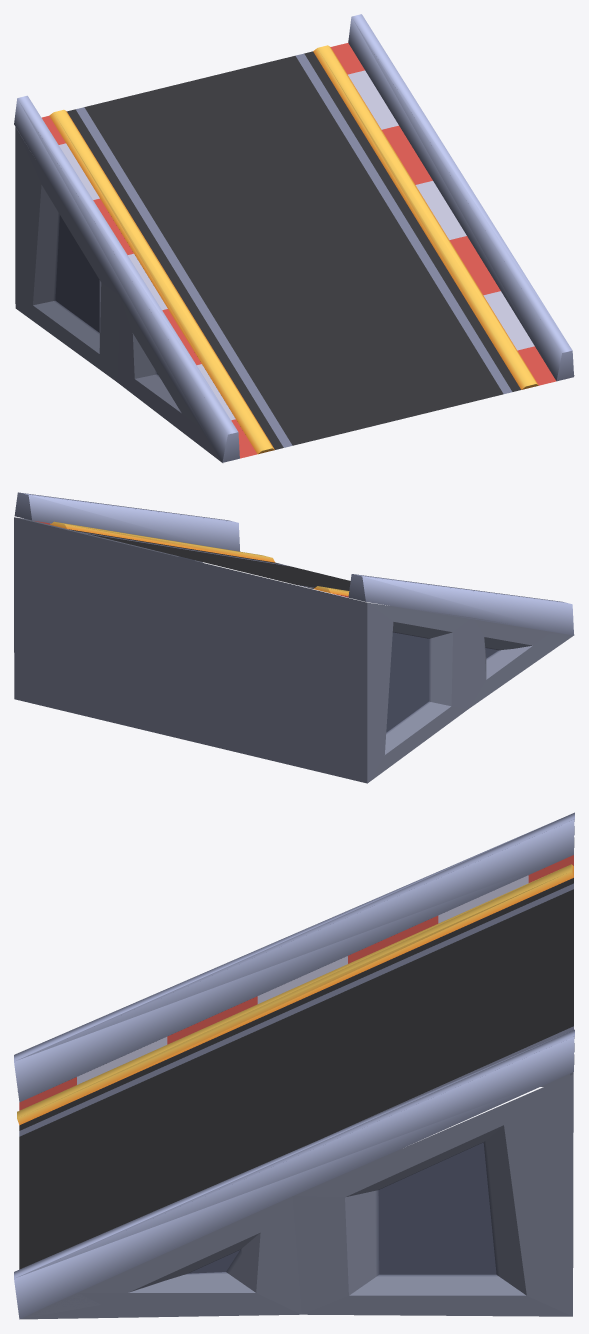
Rendered from elev-track-slope.glb.
3 views of the same model, one above another, from view 1: azimuth 30°, elevation 25°; view 2: azimuth 150°, elevation 25°; view 3: azimuth 270°, elevation 25° (orthographic). The views are drawn at different scales.
Parts seen in each view (by area): view 1: Plane; view 2: Plane; view 3: Plane.
Part boxes in pixels (x1,y1,x2,y2): Plane: (14, 14, 574, 462); Plane: (14, 492, 574, 783); Plane: (14, 812, 574, 1319).
Size of the model in its own units: 10.03 by 5.74 by 10.38.
Materials: 2 (2 with a texture image).
